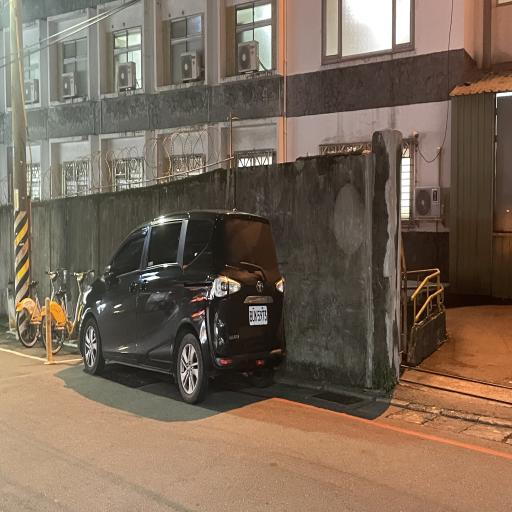MIU: (176, 318, 295, 428)
car: (72, 198, 294, 410)
redline: (248, 368, 509, 460)
